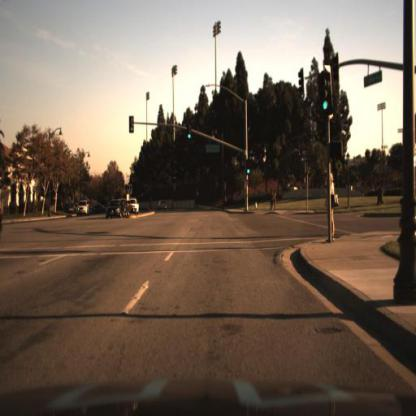car: (107, 199, 128, 221), (107, 199, 128, 218), (76, 199, 94, 220), (128, 196, 145, 218), (156, 198, 169, 213)
pedestrian: (325, 171, 341, 244), (266, 184, 273, 213), (377, 187, 386, 208), (273, 186, 279, 214), (272, 188, 278, 213), (380, 186, 387, 204), (378, 185, 383, 204)
trafficLight-Green: (128, 113, 136, 134), (128, 116, 136, 135), (186, 122, 194, 140), (246, 162, 252, 178)
